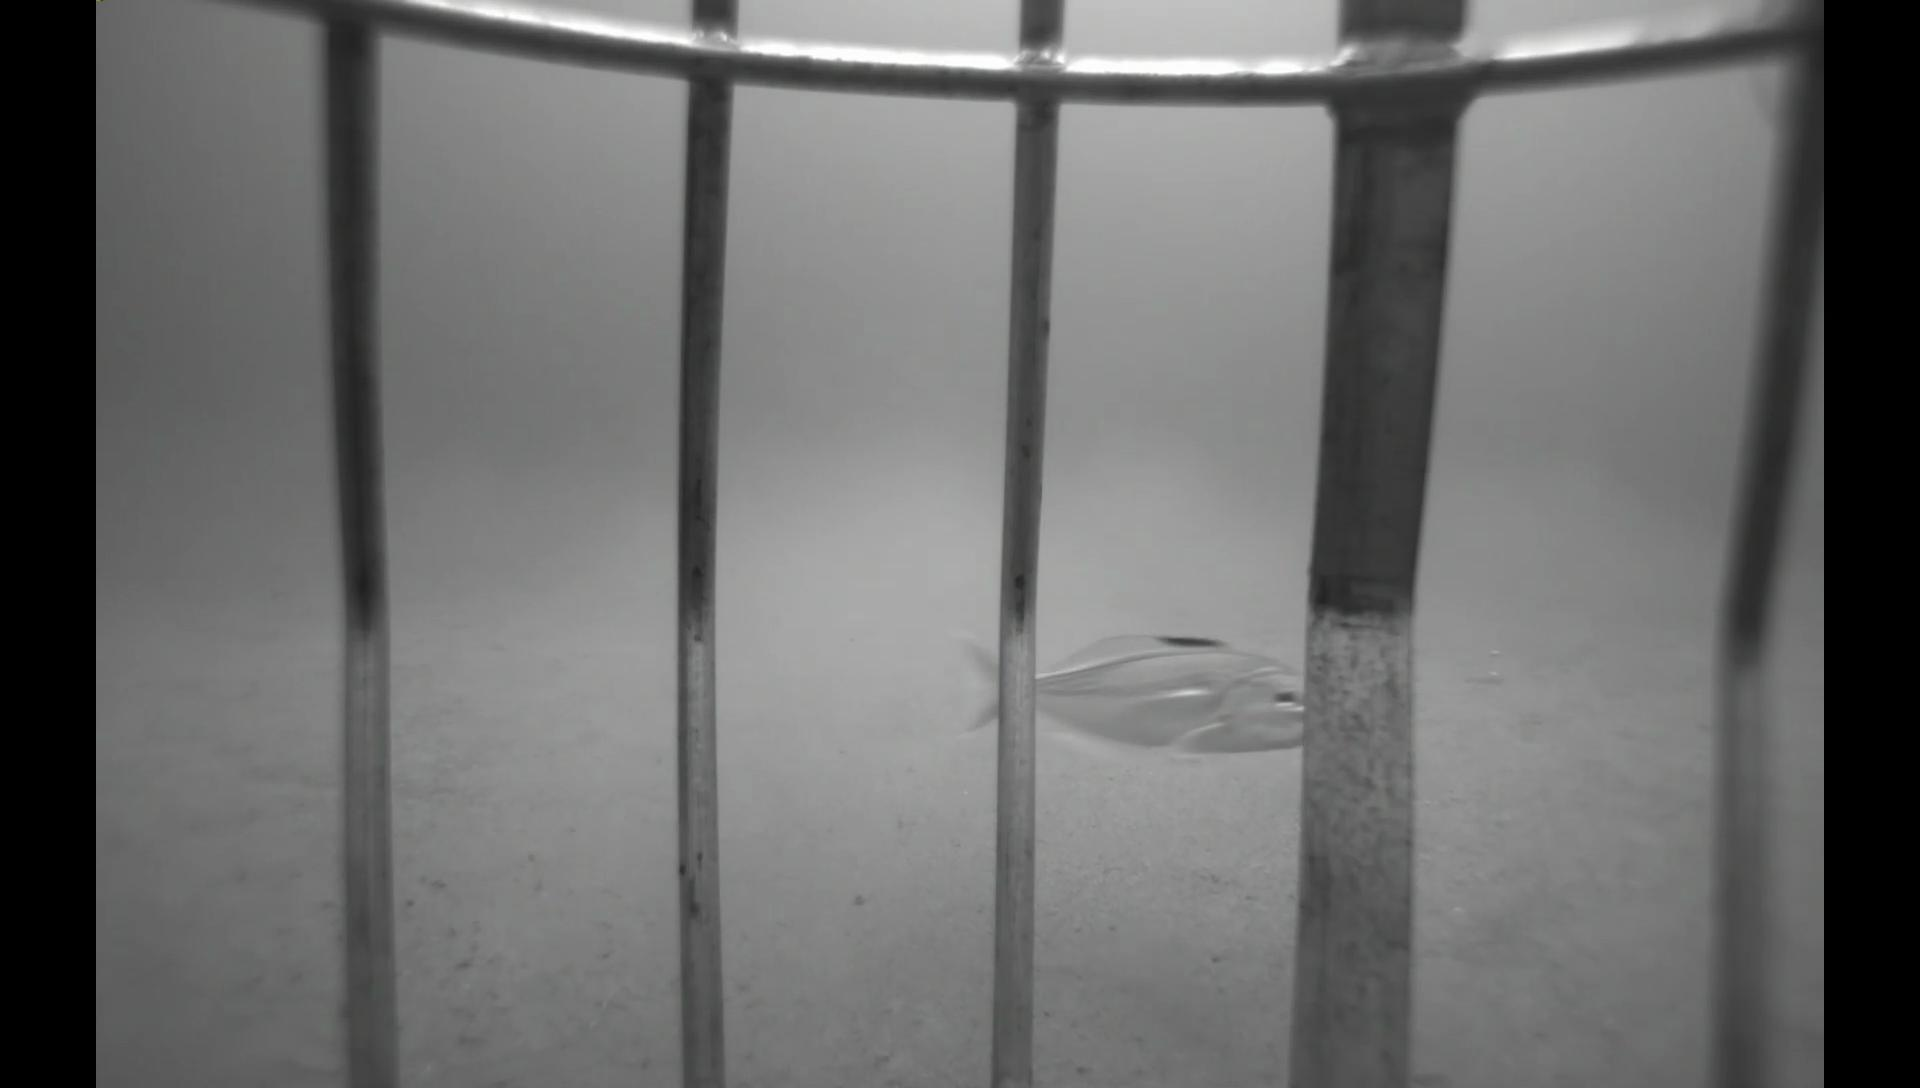CAULOLATILUSCYANOPS-170070101: (957, 621, 1309, 775)
